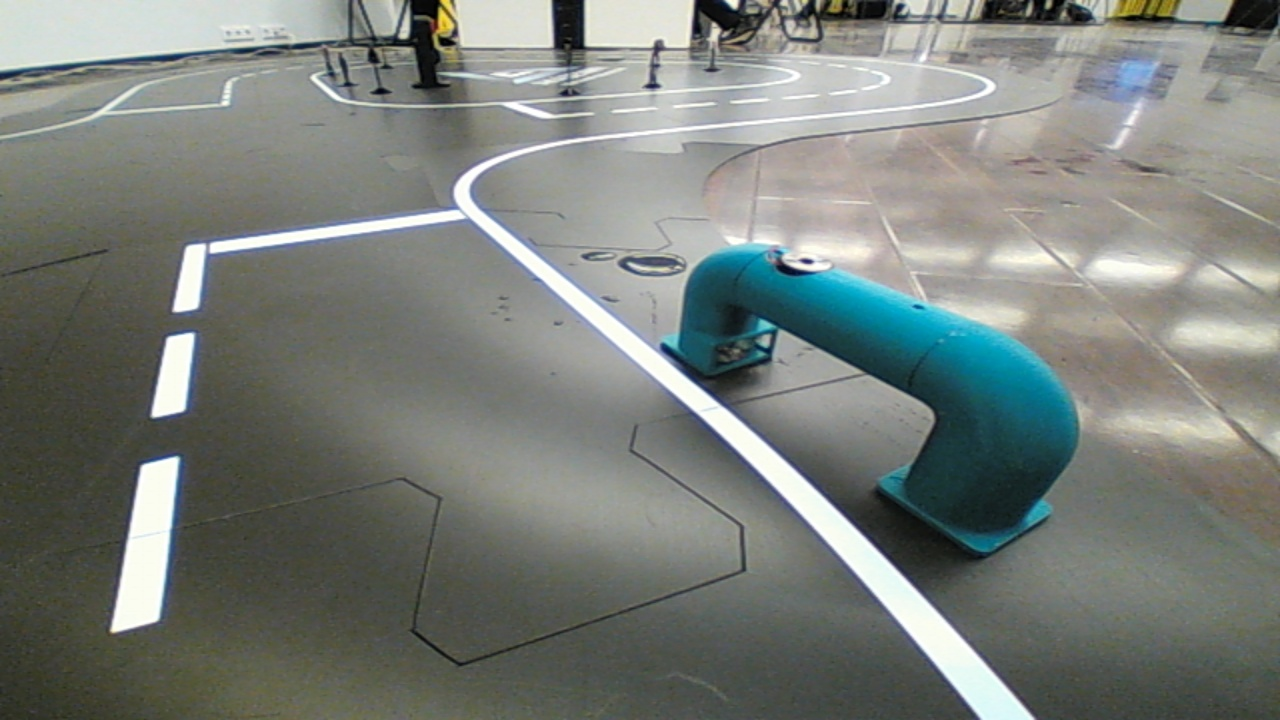Pedestrian crossing: (675, 220, 1098, 561)
